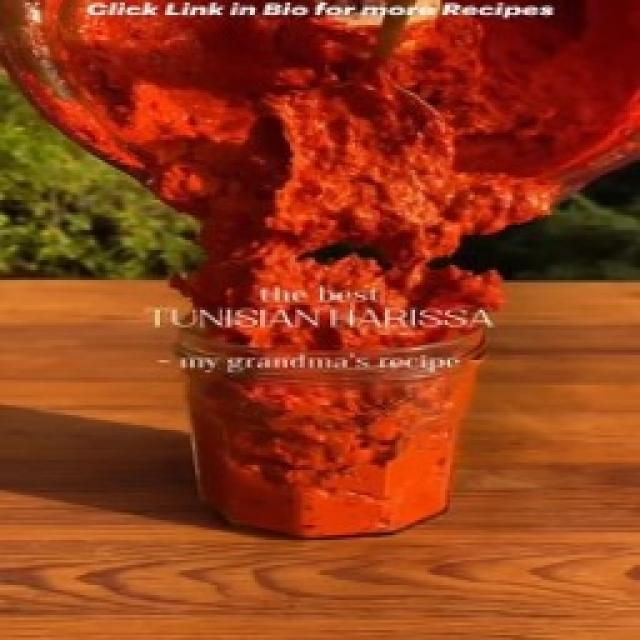Harissa: (0, 0, 640, 542)
